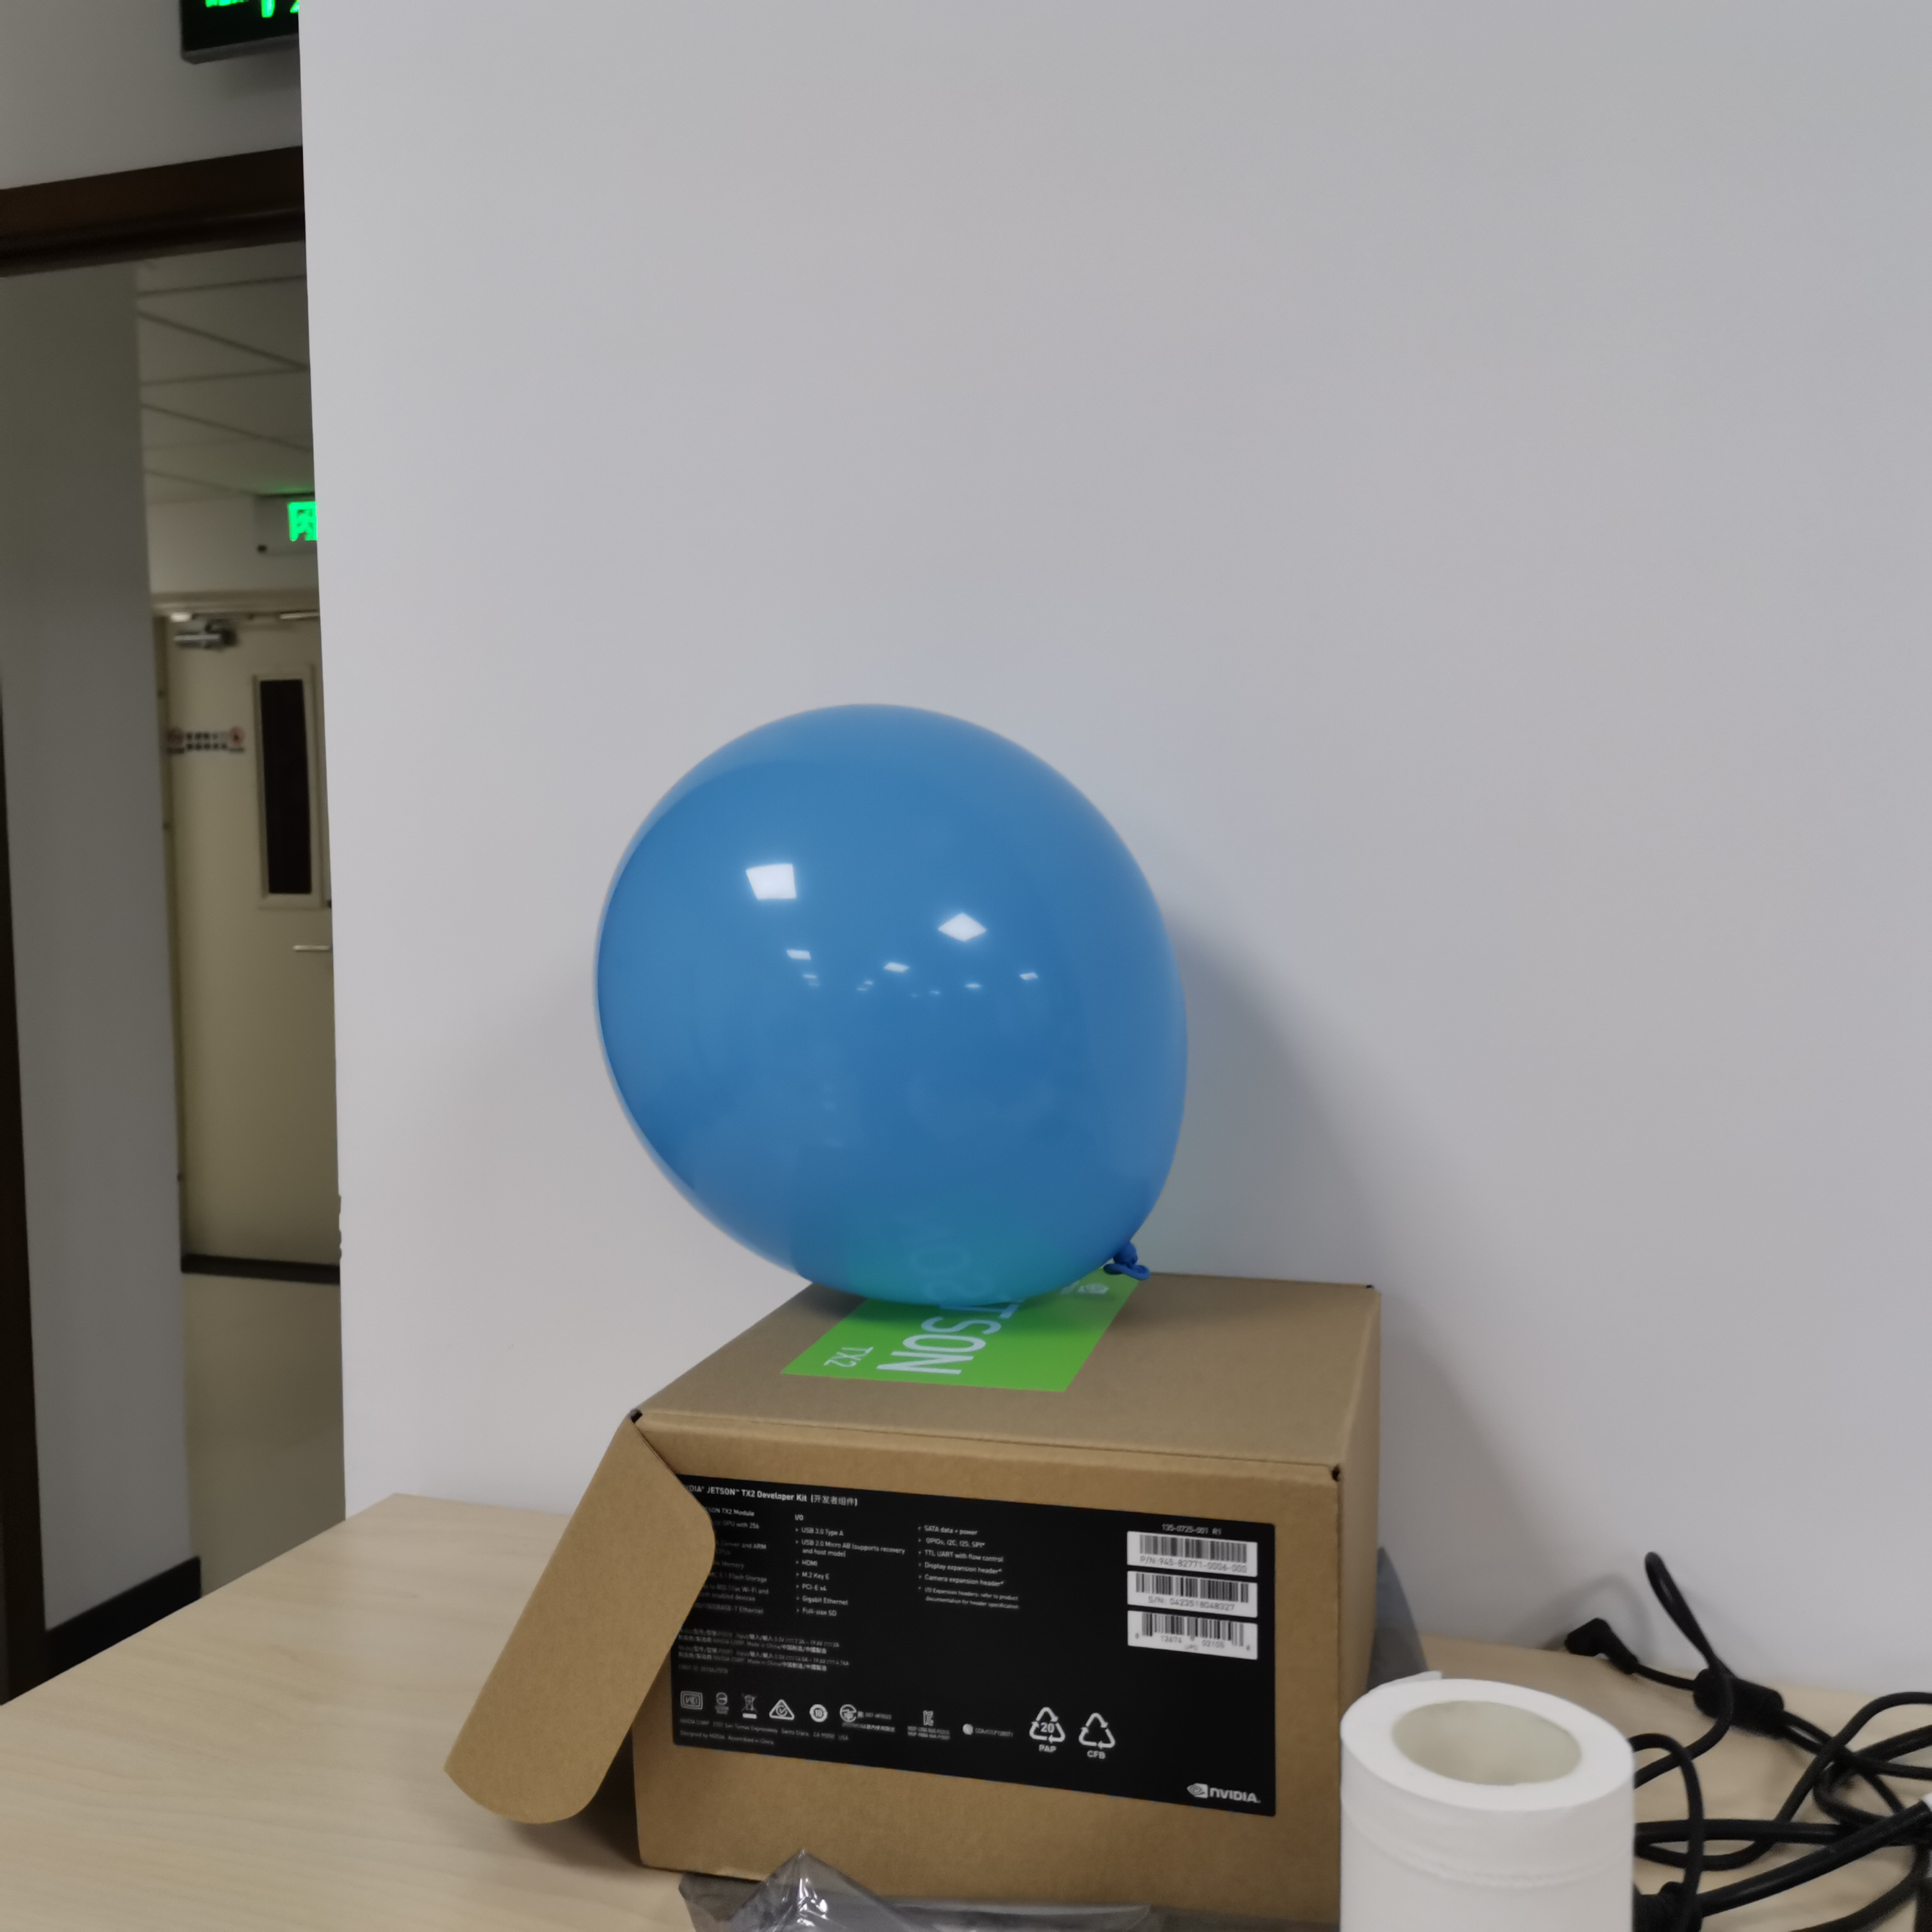balloon: (596, 702, 1189, 1313)
